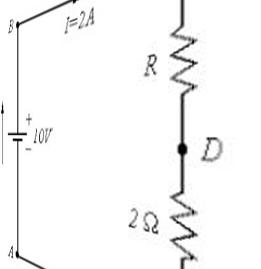resistor: (159, 13, 204, 103), (164, 181, 204, 262)
